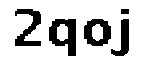2: (9, 4, 43, 50)
j: (112, 4, 137, 59)
o: (81, 16, 114, 51)
q: (47, 16, 81, 60)
